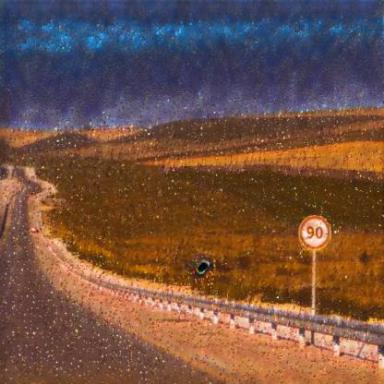Speed_limit_90: (300, 216, 332, 249)
